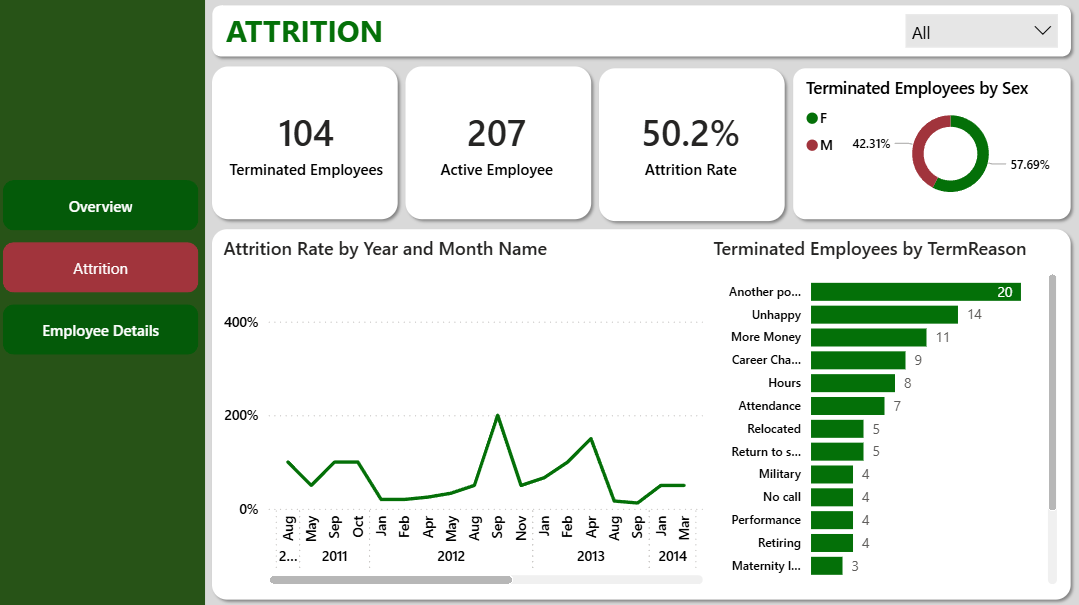

This screenshot's page, from the dashboard's own definition file:
{"tool":"powerbi","page":{"name":"Attrition","canvas":[1280,720],"ordinal":1},"visuals":[{"type":"slicer","fields":{"Values":["Date Table.Year"]},"box":[956.1,90.7,155.2,44],"z":0},{"type":"card","fields":{"Values":["_measures.Attrition Rate"]},"box":[697.1,156.4,156.4,118],"z":1000},{"type":"card","title":"Terminated Employee","fields":{"Values":["_measures.Terminated Employees"]},"box":[355.4,156.4,155.1,118],"z":2000},{"type":"card","fields":{"Values":["_measures.Active Employee"]},"box":[525.6,156.4,153.7,118],"z":3000},{"type":"textbox","box":[357.2,92,434.1,45.3],"z":4000},{"type":"donutChart","fields":{"Y":["_measures.Terminated Employees"],"Category":["HRDataset.Sex"]},"box":[872.7,156.4,233.3,118],"z":5000},{"type":"lineChart","fields":{"Y":["_measures.Attrition Rate"],"Category":["Date Table.Year","Date Table.Month Name"]},"box":[354,297.8,436.4,315.6],"z":6000},{"type":"barChart","fields":{"Y":["_measures.Terminated Employees"],"Category":["HRDataset.TermReason"]},"box":[790.4,297.8,315.6,315.6],"z":7000},{"type":"pageNavigator","box":[163.5,229.4,174.5,195.1],"z":8000}]}

Visuals, with their boxes on the page's 1280x720 design canvas (x1, y1, x2, y2). These are canvas units, not pixel positions in the 1079x605 screenshot, which may show the page scaled, cropped or inside an application window:
slicer - Date Table.Year: 956, 91, 1111, 135
card - _measures.Attrition Rate: 697, 156, 854, 274
"Terminated Employee" card: 355, 156, 510, 274
card - _measures.Active Employee: 526, 156, 679, 274
textbox: 357, 92, 791, 137
donutChart - _measures.Terminated Employees x HRDataset.Sex: 873, 156, 1106, 274
lineChart - _measures.Attrition Rate x Date Table.Year: 354, 298, 790, 613
barChart - _measures.Terminated Employees x HRDataset.TermReason: 790, 298, 1106, 613
pageNavigator: 164, 229, 338, 424
